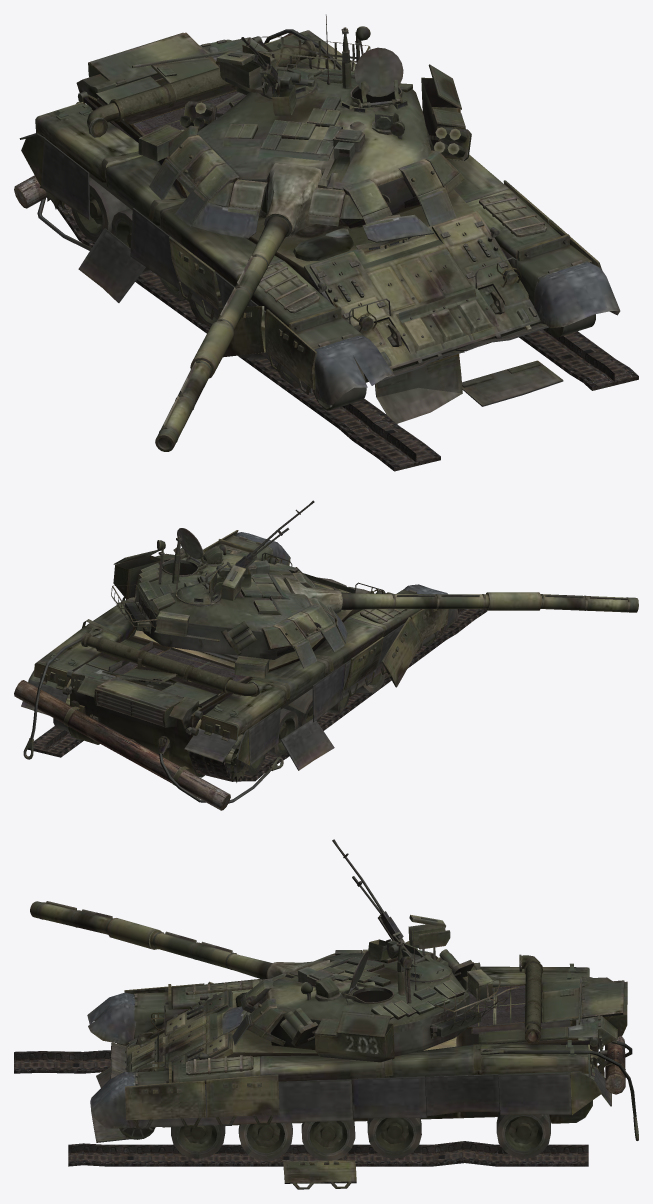
The model's file is t-80_damaged.glb.
The picture shows the model from 3 angles, top to bottom: view 1: azimuth 30°, elevation 25°; view 2: azimuth 150°, elevation 25°; view 3: azimuth 270°, elevation 25°; orthographic projection. The views are drawn at different scales.
Visible parts, largest first — view 1: mesh1_t80_0, mesh0_t80track_0; view 2: mesh1_t80_0, mesh0_t80track_0; view 3: mesh1_t80_0, mesh0_t80track_0.
Part boxes in pixels (box(x1,y1,x2,y2)): mesh1_t80_0: box(19, 14, 620, 451); mesh0_t80track_0: box(14, 31, 638, 471); mesh1_t80_0: box(21, 500, 638, 803); mesh0_t80track_0: box(14, 609, 487, 810); mesh1_t80_0: box(30, 839, 638, 1189); mesh0_t80track_0: box(14, 954, 625, 1166).
Bounding box in the file's own units: 7.07 × 3.53 × 8.41.
Materials: 2 (2 with a texture image).
